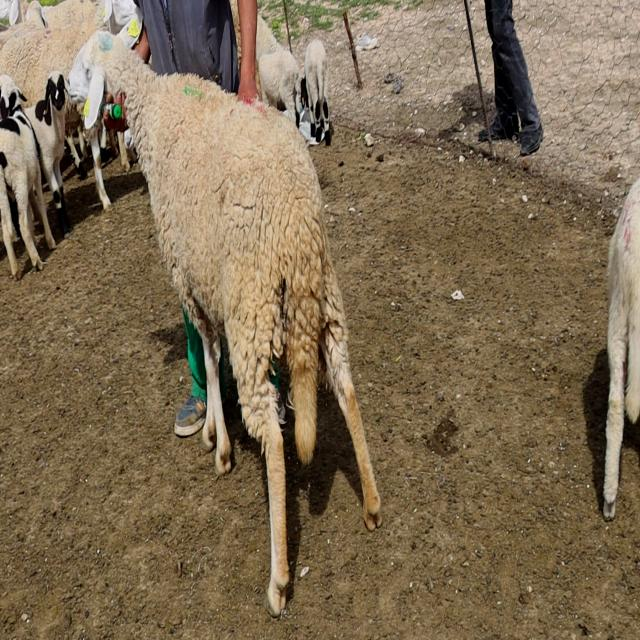Score_2: (68, 20, 381, 616)
